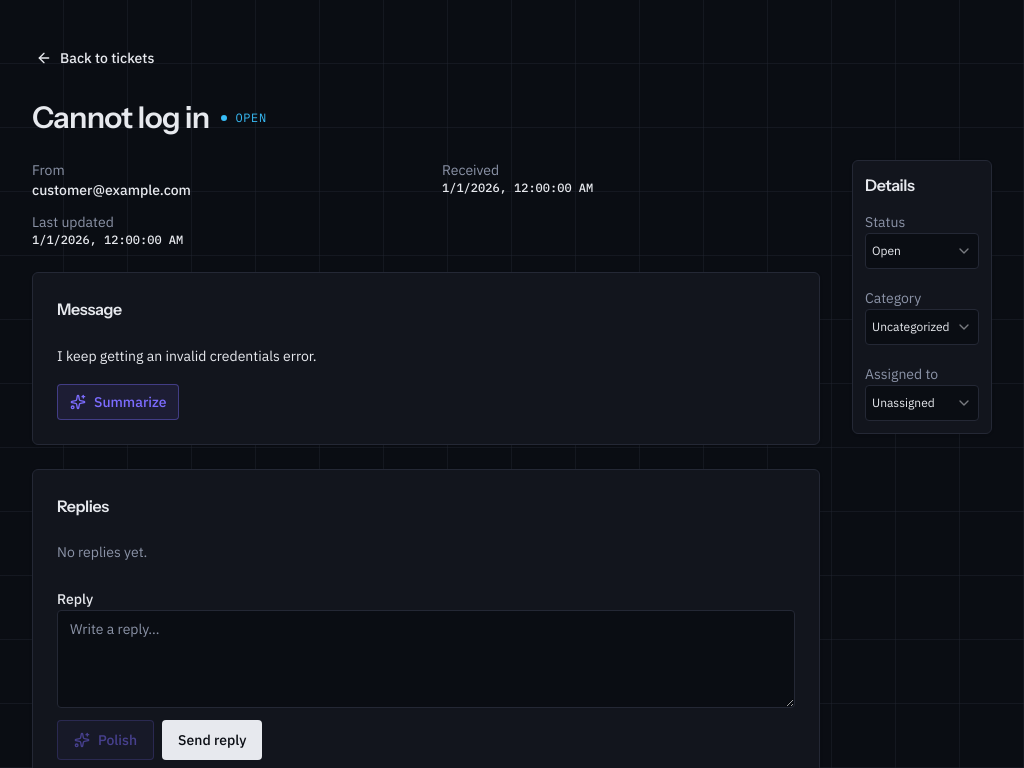
TicketDetailPage - polish reply › sends the draft body to the polish-reply endpoint and fills in the result
Expected: the heading "Cannot log in" is shown, [32,100,210,136]
In the text box labelled "Reply": (426, 659) [57,610,795,708], type "looking into it"
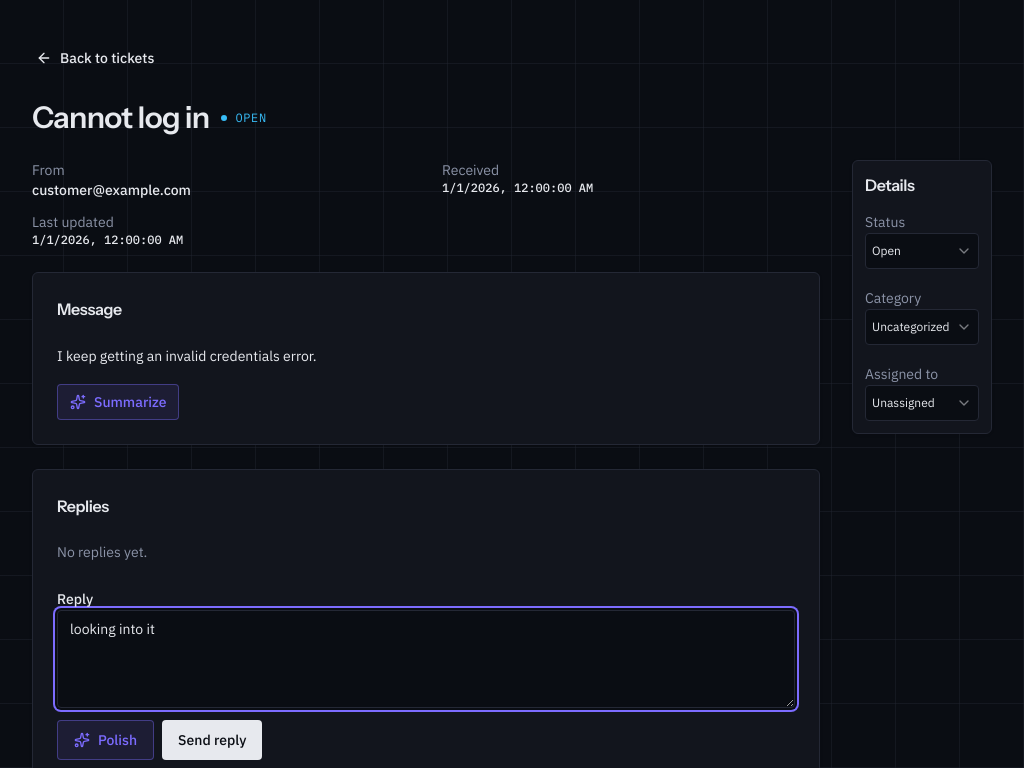
Click the button "Polish": (106, 740) [57,720,154,760]
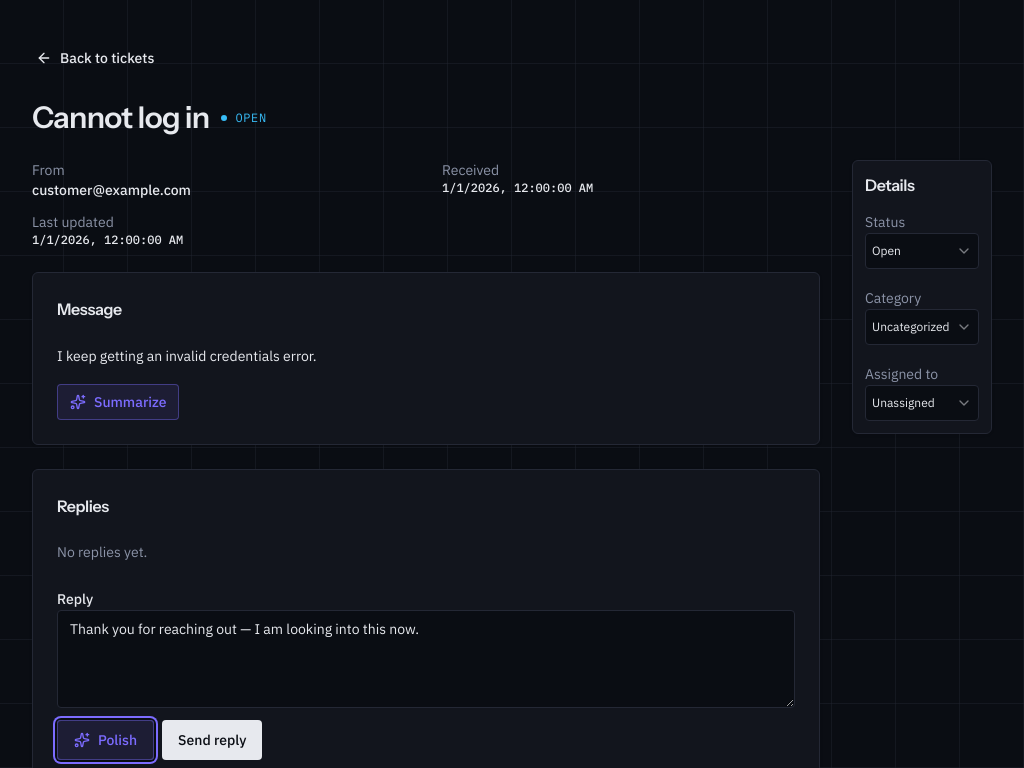
Result: the text box showing "Thank you for reaching out — I am looking into this now." is shown at [57,610,795,708]
